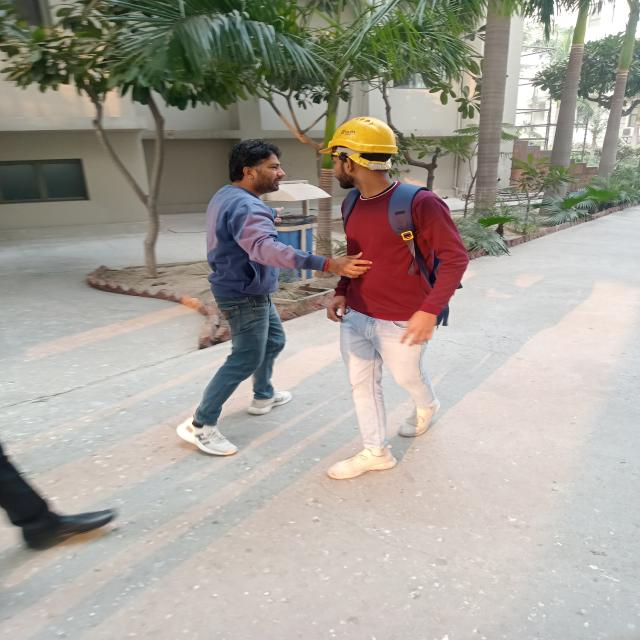no jacket: (310, 109, 450, 482)
unsafe: (183, 132, 307, 453)
